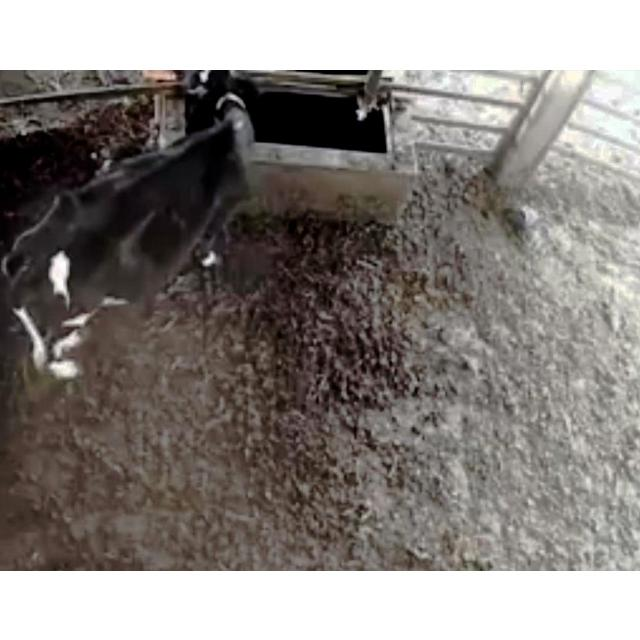drink: (146, 69, 322, 197)
